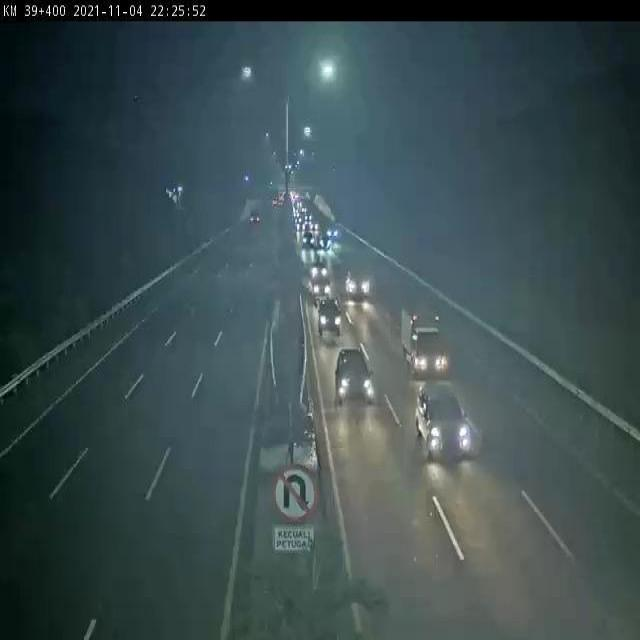car: (413, 381, 470, 459), (335, 346, 375, 406), (315, 296, 343, 336), (345, 267, 371, 300), (312, 273, 332, 300)
truck-s-: (397, 300, 447, 376)
